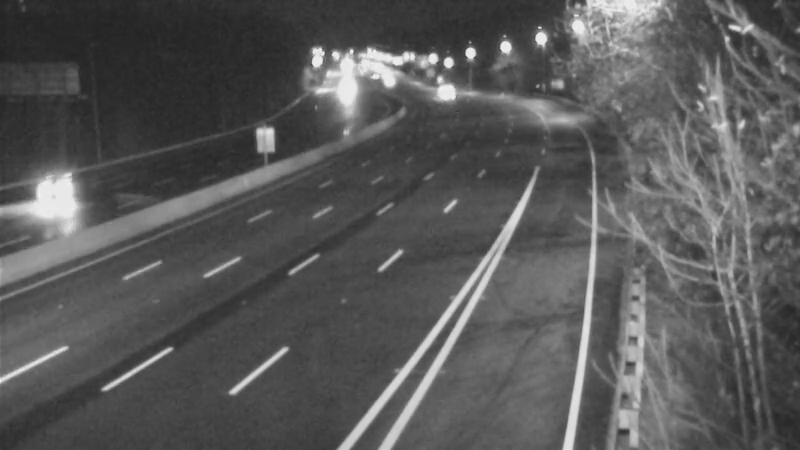vehicle: (18, 151, 98, 231), (420, 64, 470, 114)
